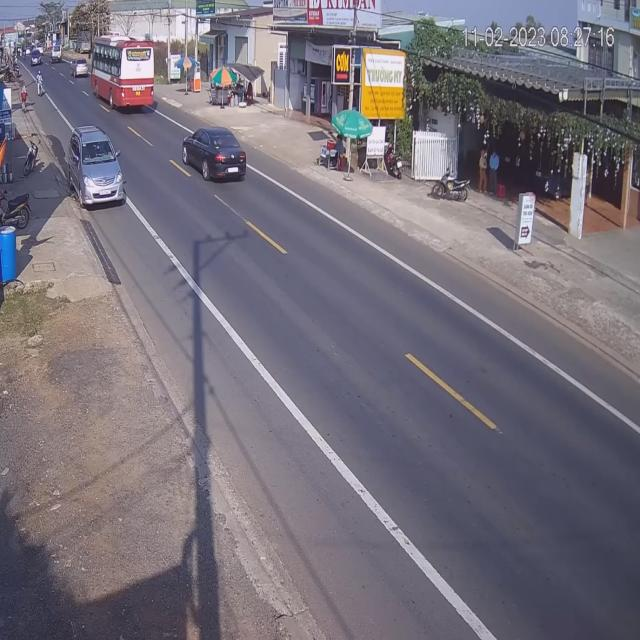bus: (92, 34, 155, 114)
car: (68, 126, 126, 210), (183, 126, 249, 183)
